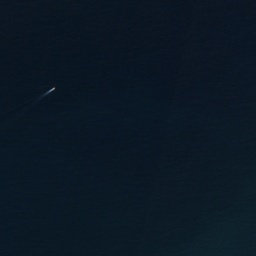Ship: (46, 90, 51, 94)
